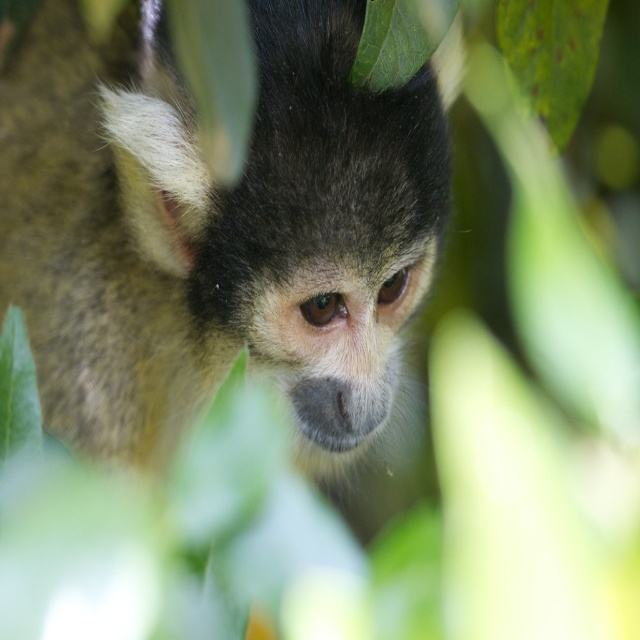Monkey: (12, 29, 460, 567)
